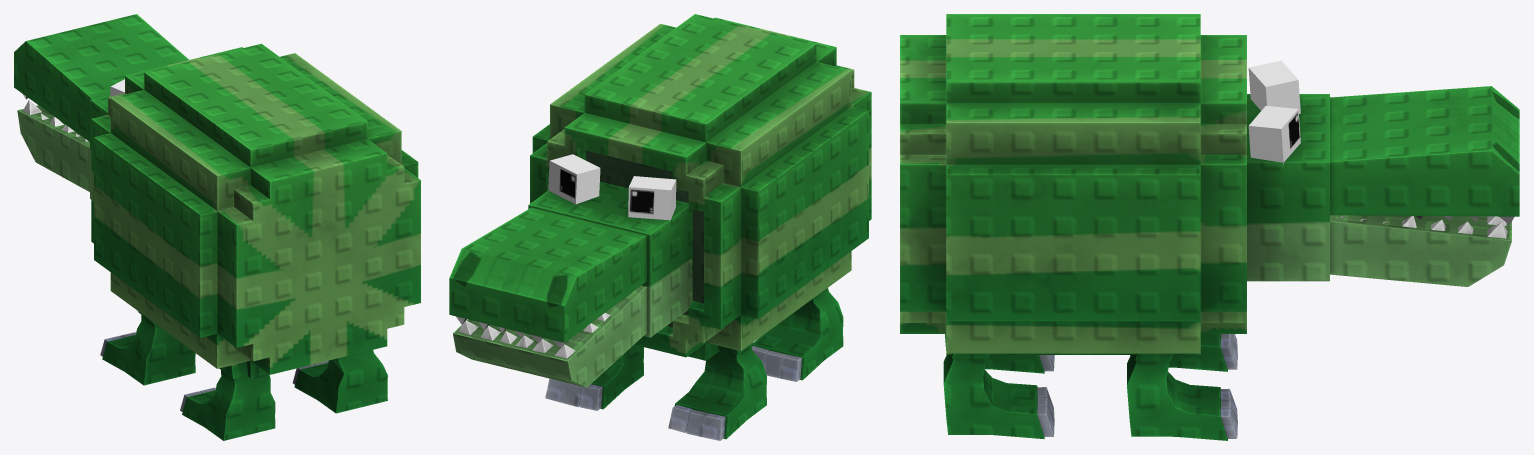
Rendered from Glorbo Fruttodrillo.fbx.
The picture shows the model from 3 angles, left to right: view 1: azimuth 30°, elevation 25°; view 2: azimuth 150°, elevation 25°; view 3: azimuth 270°, elevation 25°; orthographic projection. The views are drawn at different scales.
Visible parts, largest first — view 1: Glorbo Fruttodrillo; view 2: Glorbo Fruttodrillo; view 3: Glorbo Fruttodrillo.
Part boxes in pixels (x1,y1,x2,y2): Glorbo Fruttodrillo: [14, 14, 420, 440]; Glorbo Fruttodrillo: [449, 14, 871, 440]; Glorbo Fruttodrillo: [900, 14, 1519, 440].
Size of the model in its own units: 408 by 516 by 842.
